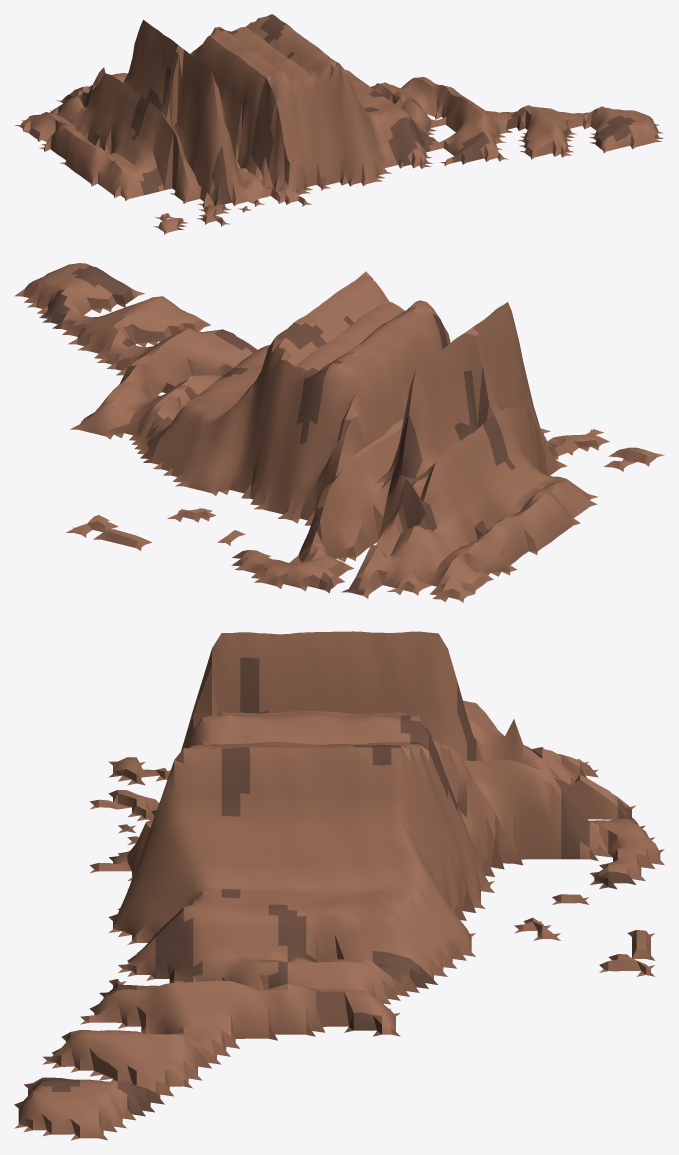
The model's file is fulgoran-ruin-colossal.glb.
3 renders of one model, top to bottom at view 1: azimuth 30°, elevation 25°; view 2: azimuth 150°, elevation 25°; view 3: azimuth 270°, elevation 25°, orthographic. The views are drawn at different scales.
Visible parts, largest first — view 1: body; view 2: body; view 3: body.
Part boxes in pixels (left/top/right/bottom): body: left=14, top=14, right=663, bottom=234; body: left=14, top=263, right=664, bottom=602; body: left=14, top=631, right=664, bottom=1140.
Size of the model in its own units: 12.01 by 2.83 by 8.62.
